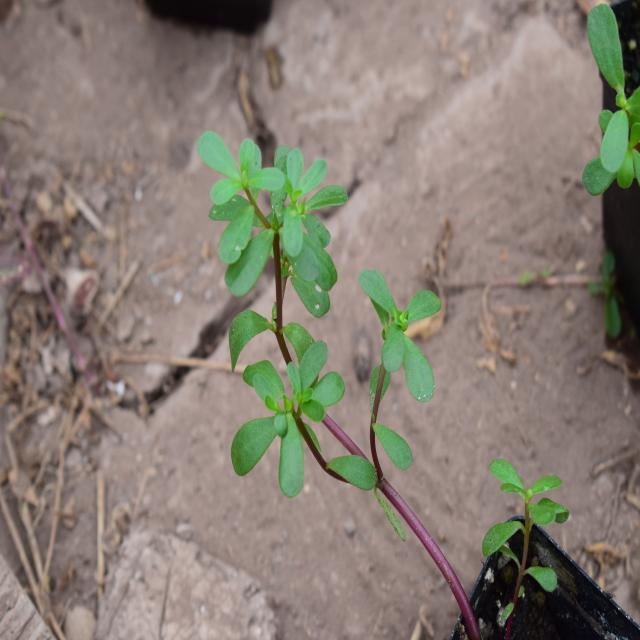purslane: (190, 125, 462, 537)
